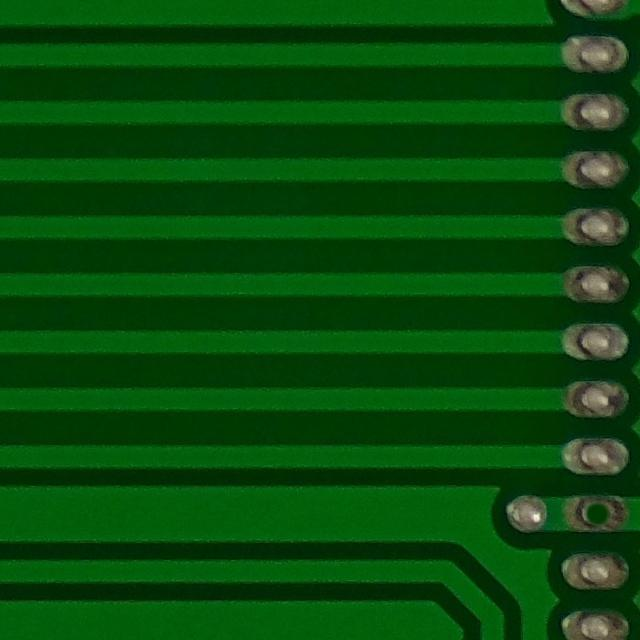missing_hole: (562, 483, 635, 539)
